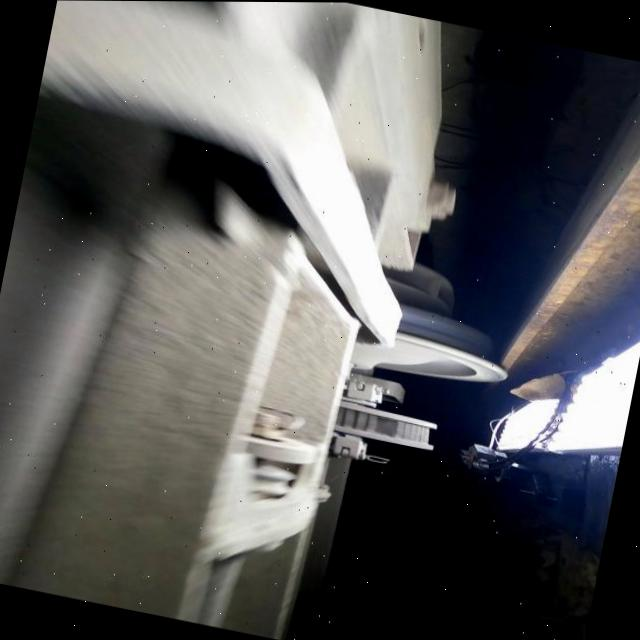Wheel: (353, 303, 508, 381)
